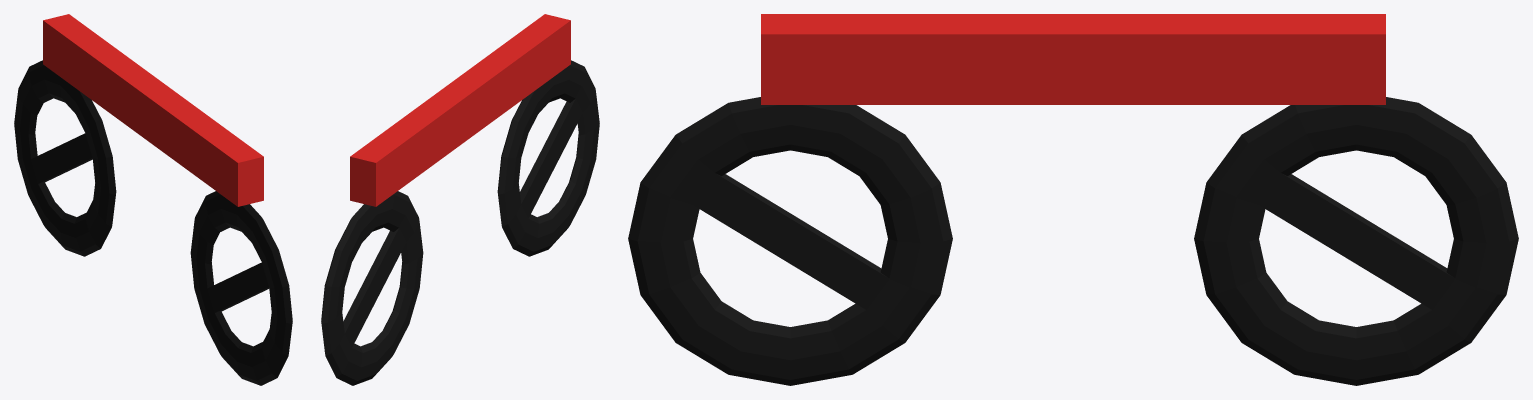
Rendered from testBike1.gltf.
3 renders of one model, left to right at view 1: azimuth 30°, elevation 25°; view 2: azimuth 150°, elevation 25°; view 3: azimuth 270°, elevation 25°, orthographic. The views are drawn at different scales.
Parts seen in each view (by area): view 1: 立方体, 环体, 环体.001; view 2: 立方体, 环体.001, 环体; view 3: 立方体, 环体, 环体.001.
Part boxes in pixels (bbox=[...]): 立方体: bbox=[43, 14, 263, 206]; 环体: bbox=[190, 191, 292, 385]; 环体.001: bbox=[14, 60, 116, 256]; 立方体: bbox=[350, 14, 570, 206]; 环体.001: bbox=[321, 191, 423, 385]; 环体: bbox=[497, 60, 599, 256]; 立方体: bbox=[761, 14, 1385, 104]; 环体: bbox=[628, 97, 952, 385]; 环体.001: bbox=[1194, 97, 1518, 385].
Bounding box in the file's own units: 0.3114 × 2.58 × 5.77.
